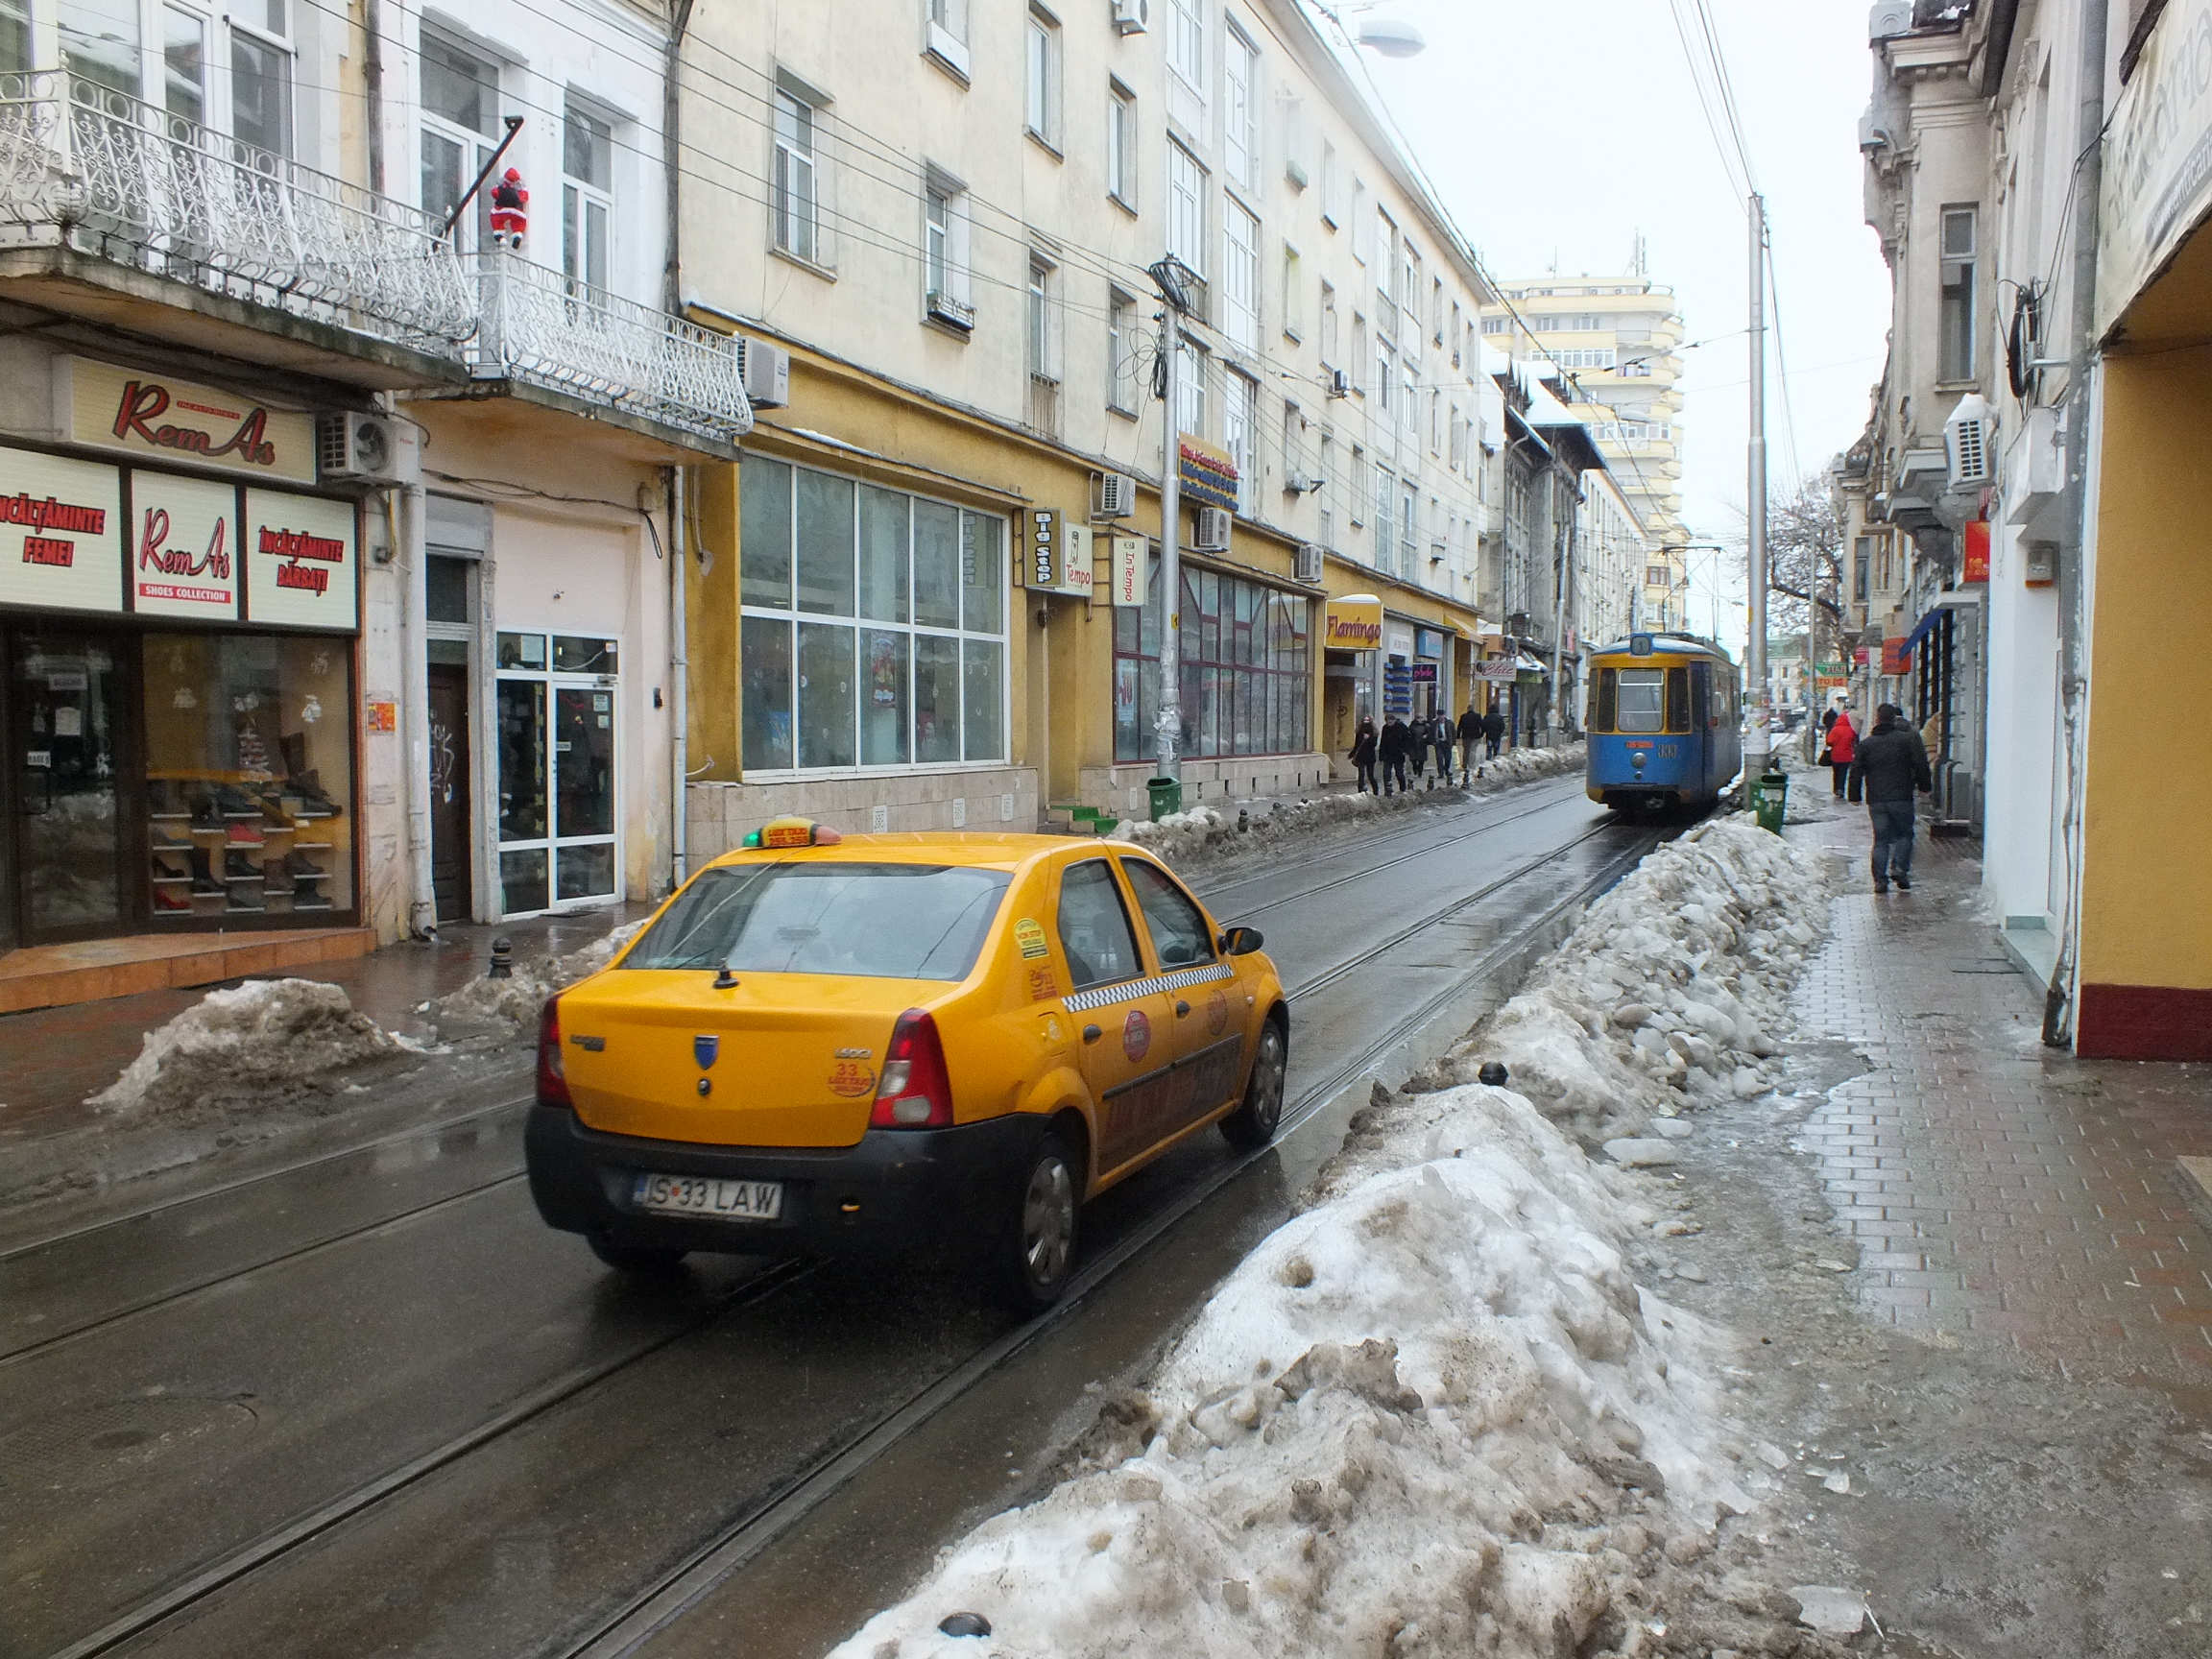IS33LAW: (628, 1172, 778, 1215)
